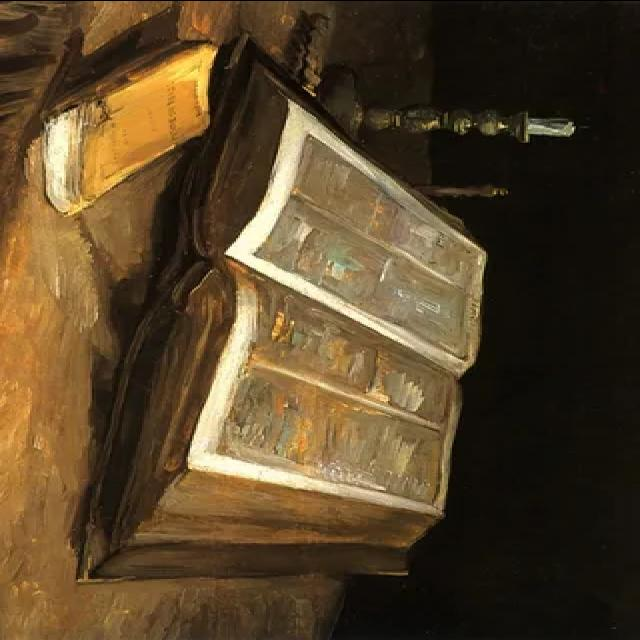book: (110, 21, 503, 604)
